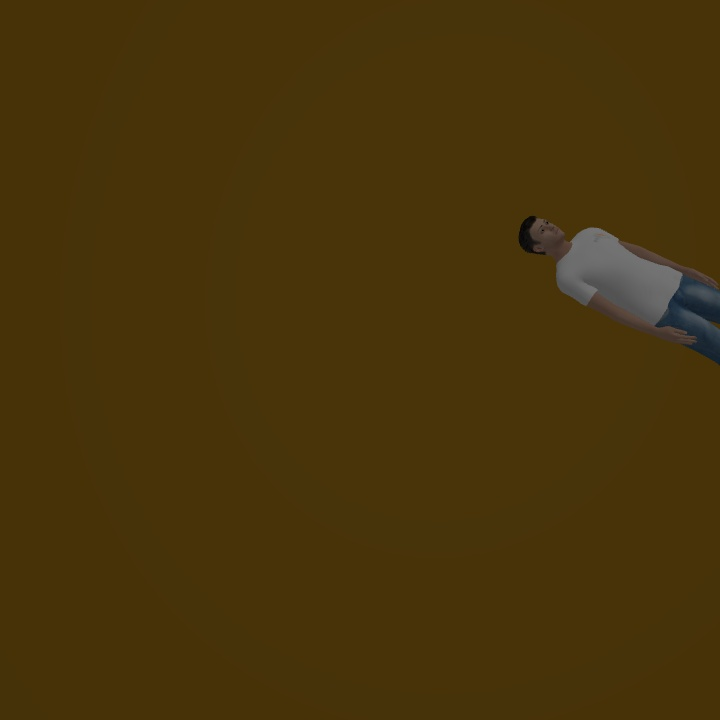victim: (521, 215, 720, 362)
